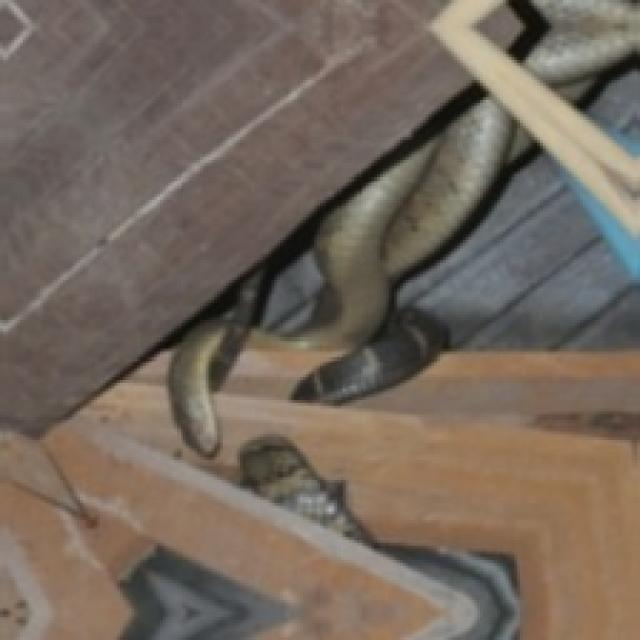king cobra: (169, 0, 637, 454)
